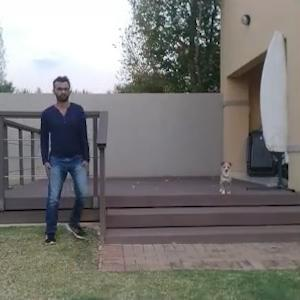follow: (38, 75, 88, 235)
